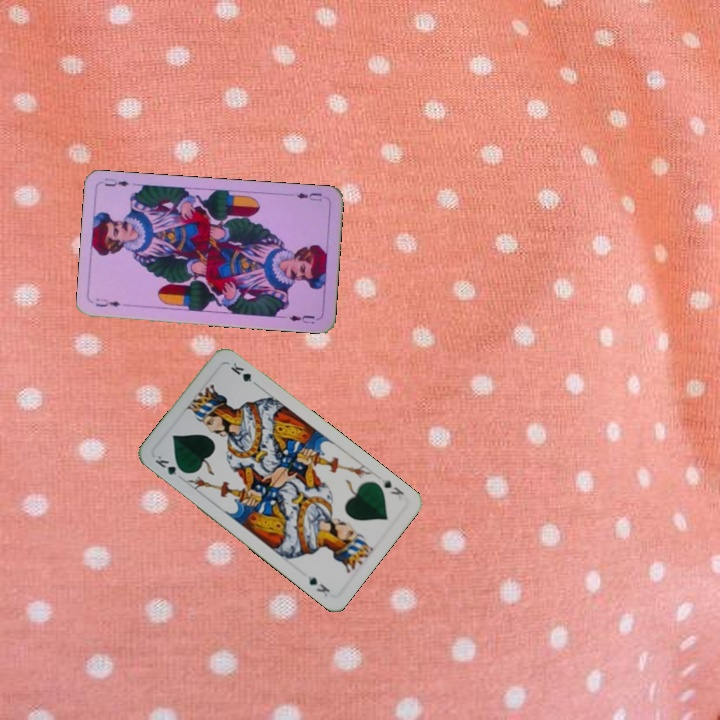EU: (92, 294, 123, 310), (292, 189, 324, 204)
GK: (151, 451, 188, 478), (378, 475, 407, 498)
